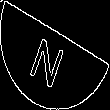N_NE: (34, 24, 76, 86)
